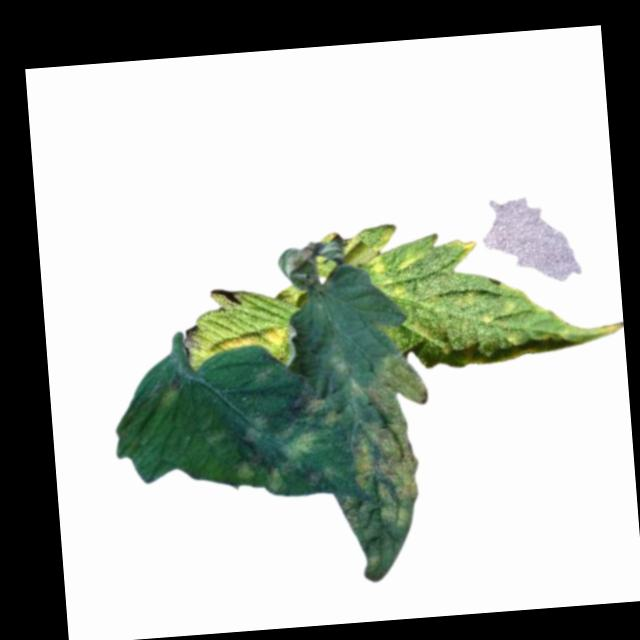Leaf_Mold: (354, 207, 624, 375), (327, 349, 441, 585), (226, 373, 345, 500), (197, 324, 289, 367)
